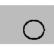no answer: (21, 18, 46, 42)
